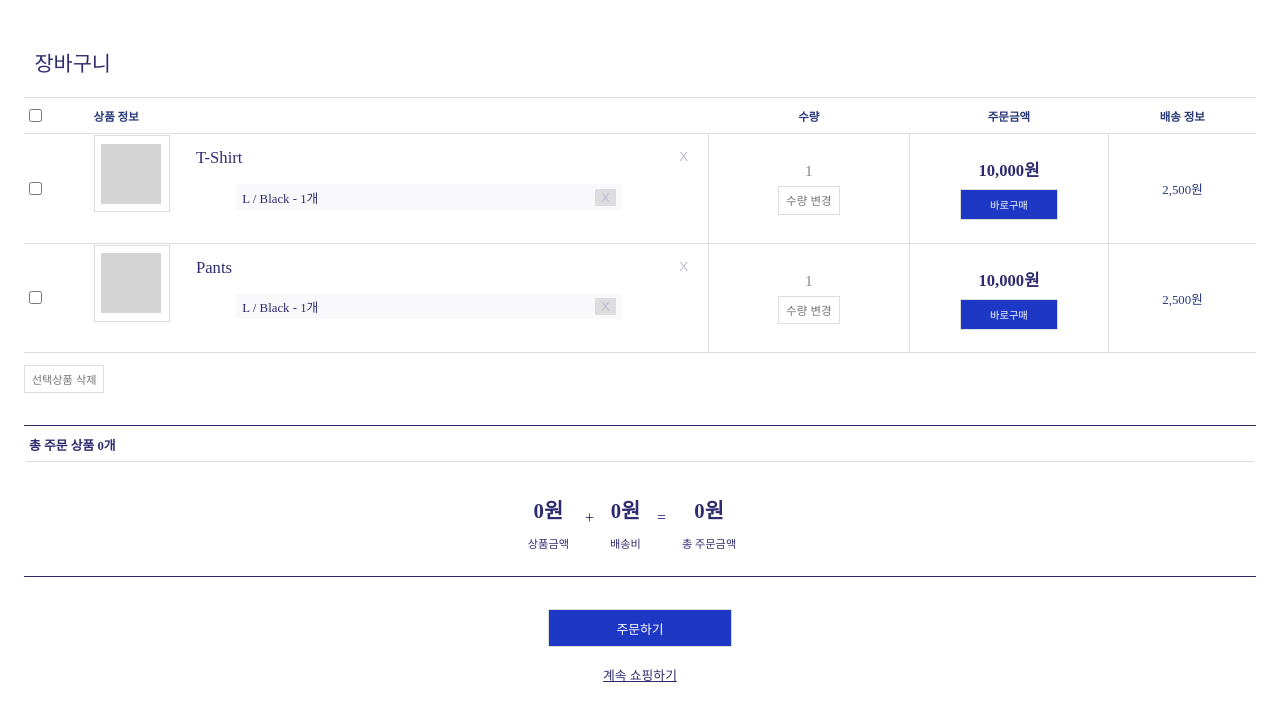
Cart › 체크박스 › 카트에 있는 모든 아이템 중 하나라도 체크가 되지 않았을 경우 › 전체선택 체크박스가 체크해제 되어 있는 것을 볼 수 있다
Click the checkbox named "전체선택" next to "상품 정보" at (36, 116), box left=29, top=109, right=42, bottom=122
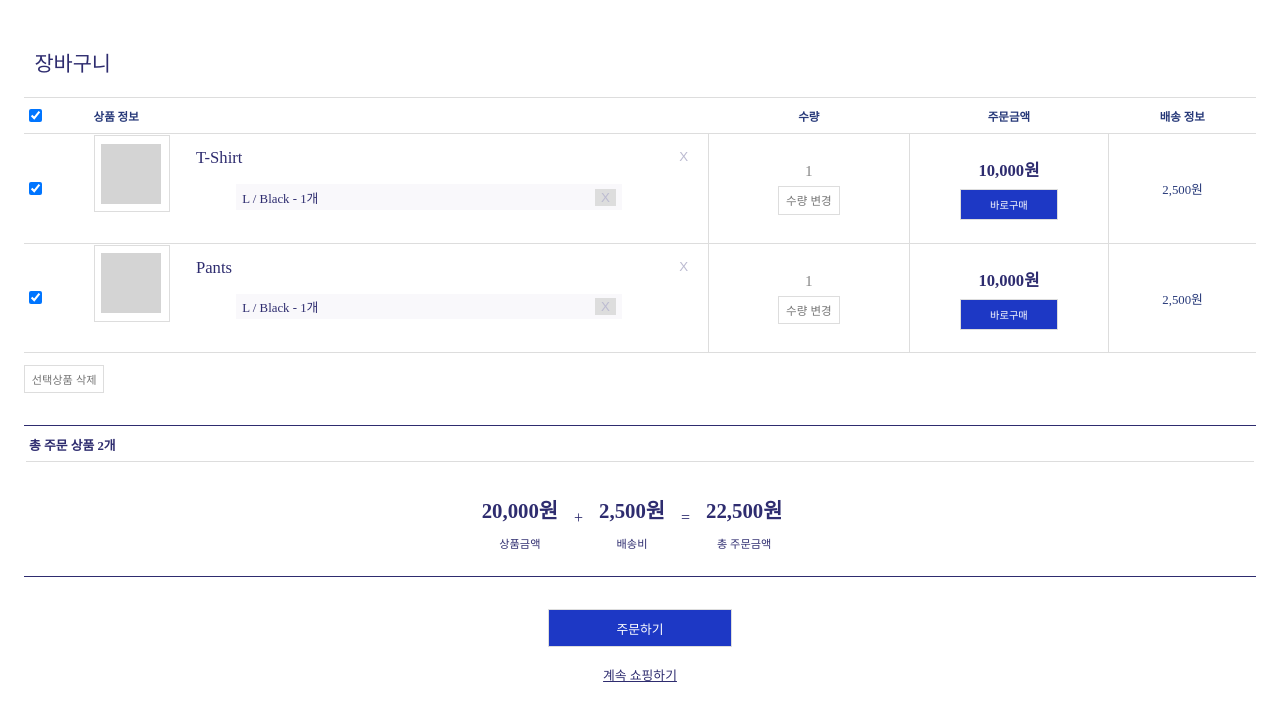
Result: the checkbox named "전체선택" next to "상품 정보" is checked at left=29, top=109, right=42, bottom=122
Click the checkbox named "T-Shirt" below "T-Shirt" at (36, 188), box left=29, top=182, right=42, bottom=195
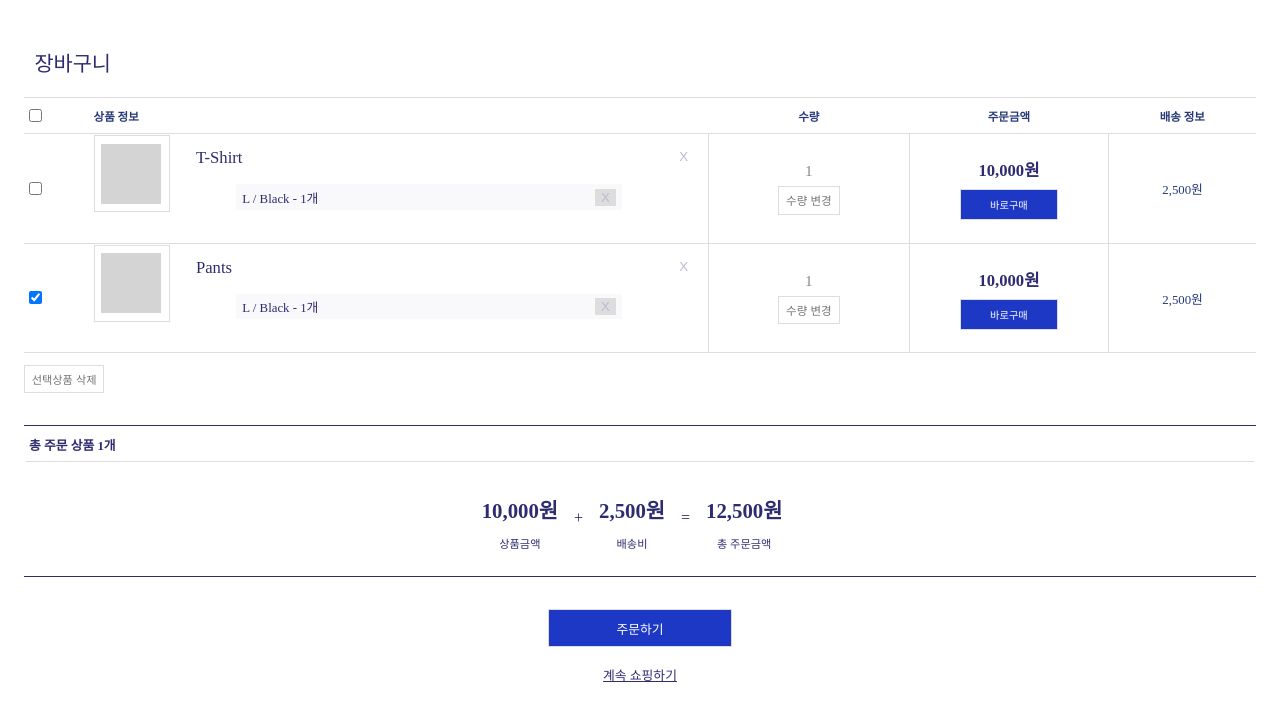
Result: the checkbox named "전체선택" next to "상품 정보" is not checked at left=29, top=109, right=42, bottom=122
Result: the column heading "총 주문 상품 1개" is shown at left=28, top=434, right=117, bottom=455
